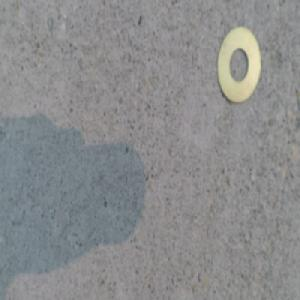Washer: (212, 36, 258, 108)
